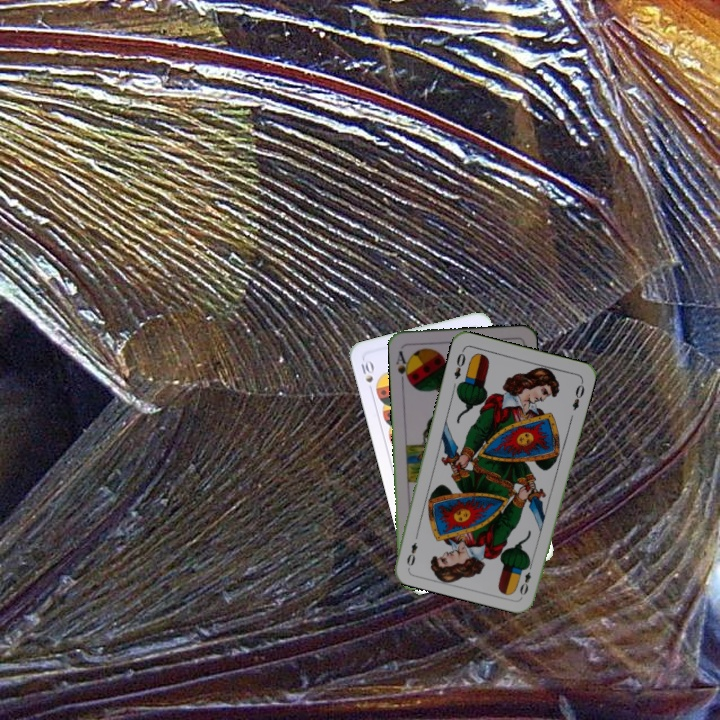EO: (516, 558, 535, 598), (450, 346, 468, 382)
S10: (356, 356, 376, 396)
SA: (392, 347, 413, 385)
